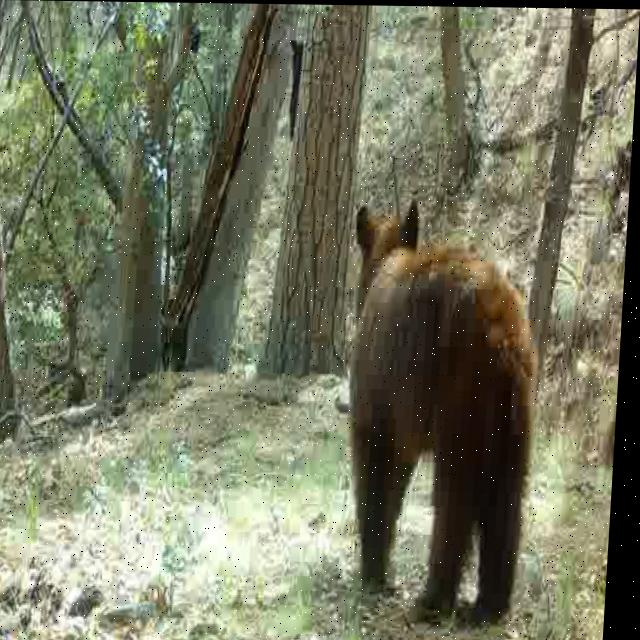bear face: (345, 194, 544, 599), (289, 36, 304, 120)
